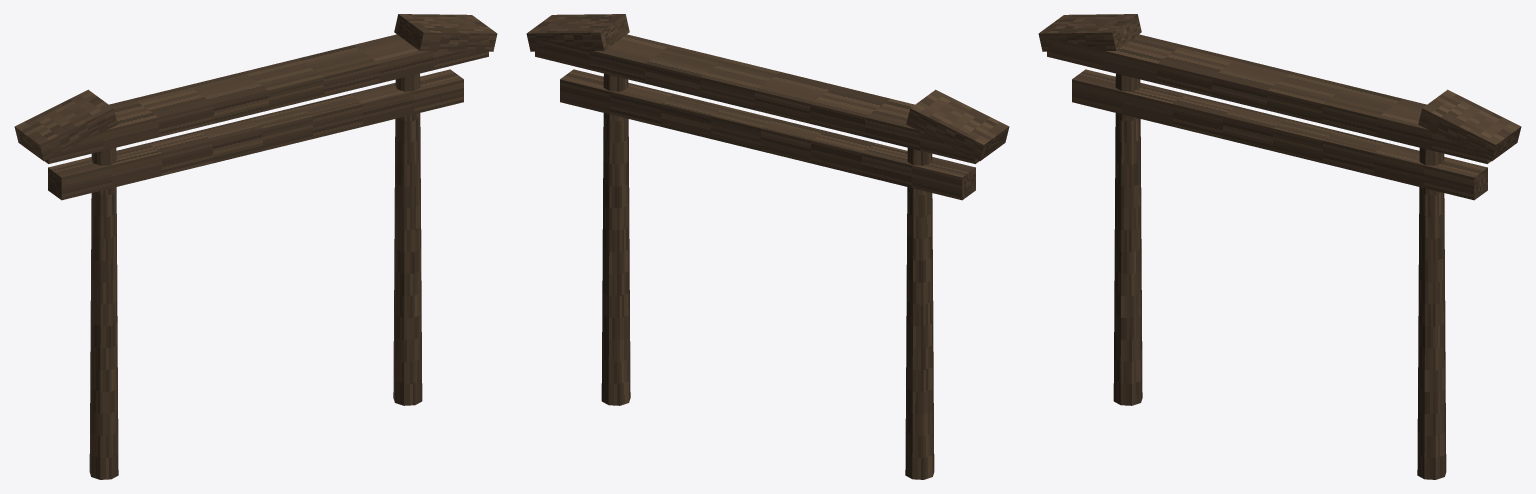
Rendered from gate_48.glb.
3 renders of one model, left to right at view 1: azimuth 30°, elevation 25°; view 2: azimuth 150°, elevation 25°; view 3: azimuth 330°, elevation 25°, orthographic.
Parts seen in each view (by area): view 1: Roof, Lintel, Pillar.001, Pillar, RaisedEave, RaisedEave.001; view 2: Roof, Lintel, Pillar.001, Pillar, RaisedEave, RaisedEave.001; view 3: Roof, Lintel, Pillar, Pillar.001, RaisedEave.001, RaisedEave.
Part boxes in pixels (box(x1,y1,x2,y2)): Roof: box(45, 34, 488, 163); Lintel: box(48, 69, 463, 200); Pillar.001: box(393, 73, 422, 405); Pillar: box(89, 148, 118, 479); RaisedEave: box(14, 89, 117, 161); RaisedEave.001: box(394, 14, 497, 51); Roof: box(535, 34, 978, 163); Lintel: box(560, 69, 975, 200); Pillar.001: box(601, 73, 630, 405); Pillar: box(905, 148, 934, 479); RaisedEave: box(906, 89, 1009, 161); RaisedEave.001: box(526, 14, 629, 51); Roof: box(1047, 34, 1490, 163); Lintel: box(1072, 69, 1487, 200); Pillar: box(1113, 73, 1142, 405); Pillar.001: box(1417, 148, 1446, 479); RaisedEave.001: box(1418, 89, 1521, 161); RaisedEave: box(1038, 14, 1141, 51).
Size of the model in its own units: 6.73 by 5.28 by 0.65.
Materials: 1 (1 with a texture image).
